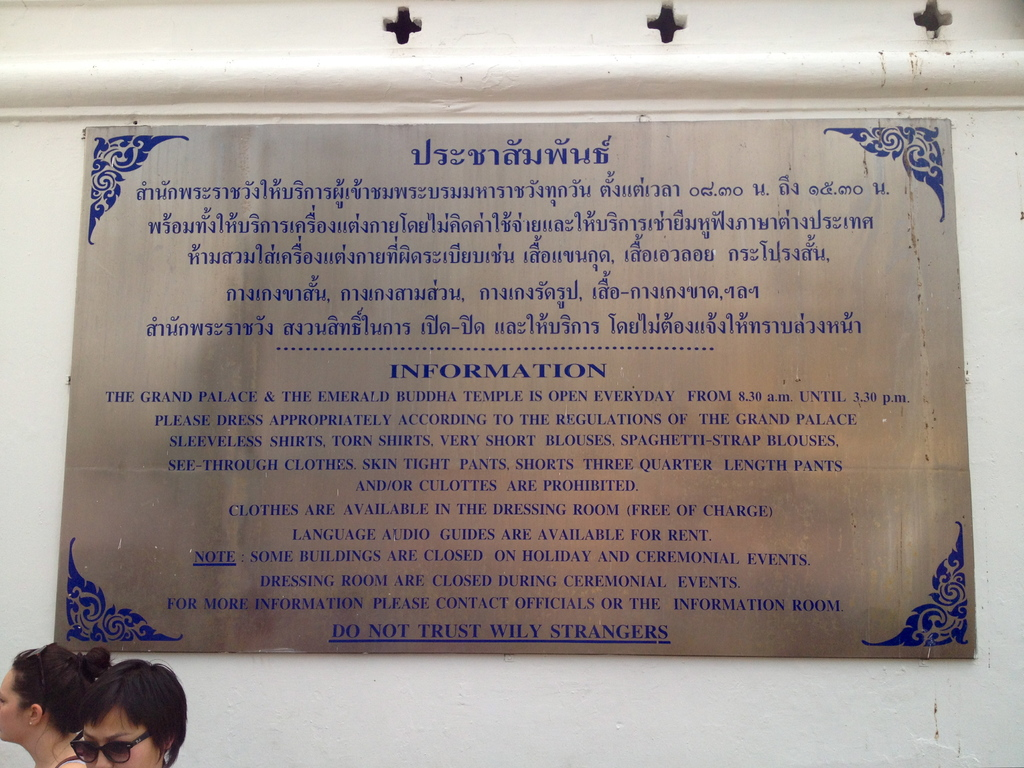Human-face: (83, 706, 164, 767), (0, 670, 28, 741)
